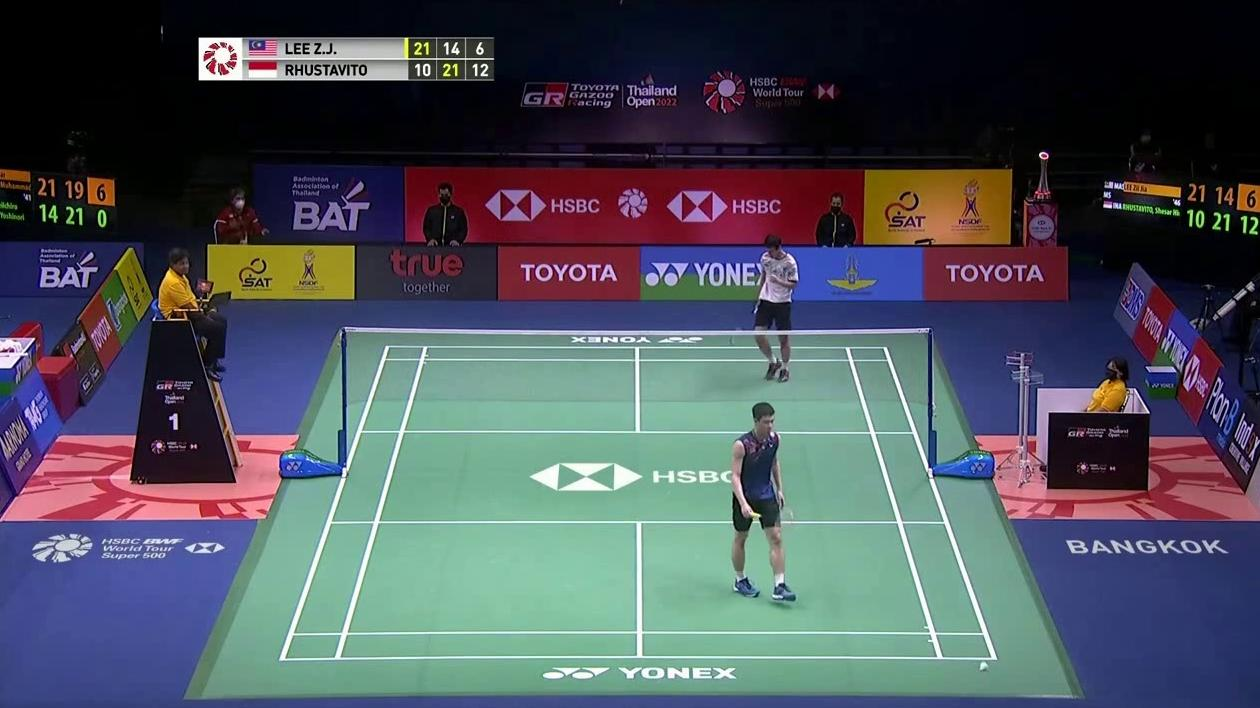racket: (744, 505, 796, 537), (729, 303, 762, 347)
shuttle: (978, 660, 990, 673)
